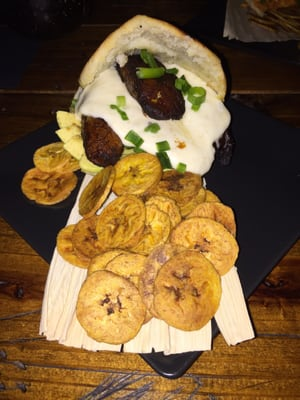soup: (59, 14, 233, 183)
